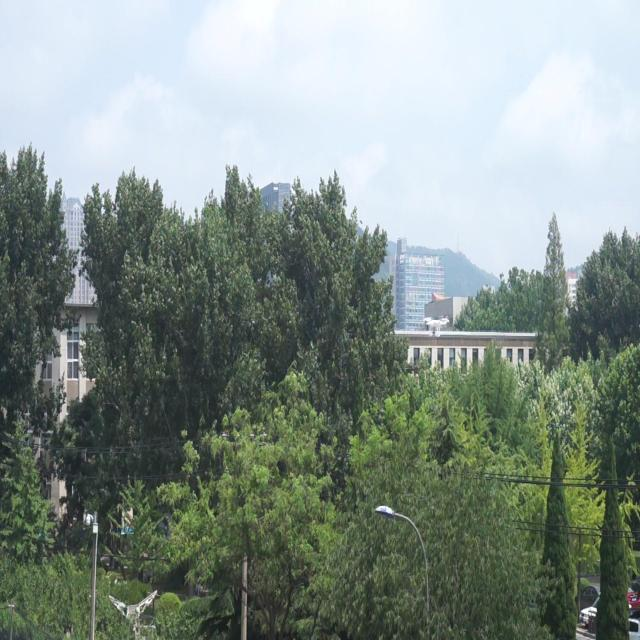drone: (426, 313, 450, 339)
